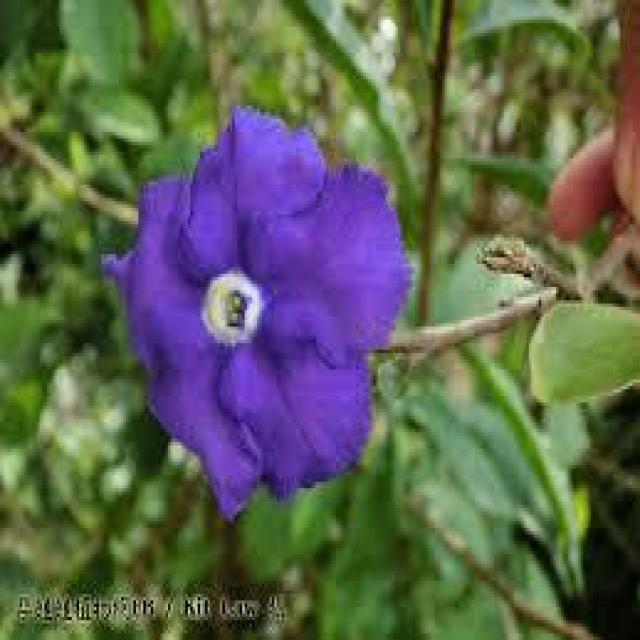organic waste: (102, 116, 410, 508)
